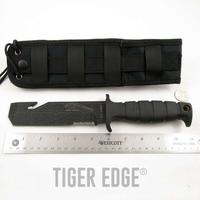knife: (6, 96, 197, 129)
